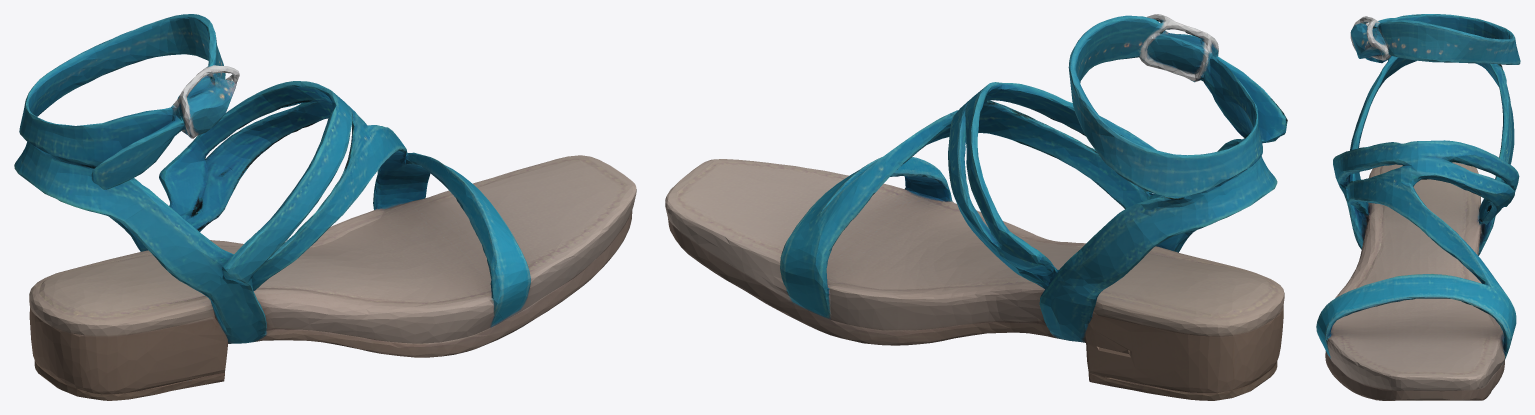
The picture shows the model from 3 angles, left to right: view 1: azimuth 30°, elevation 25°; view 2: azimuth 150°, elevation 25°; view 3: azimuth 270°, elevation 25°; orthographic projection. The views are drawn at different scales.
Parts seen in each view (by area): view 1: world; view 2: world; view 3: world.
Part boxes in pixels (box(x1,y1,x2,y2)): world: box(14, 14, 636, 400); world: box(665, 14, 1287, 400); world: box(1316, 14, 1520, 400).
Bounding box in the file's own units: 1 × 0.5447 × 0.3863.
Materials: 1 (1 with a texture image).
